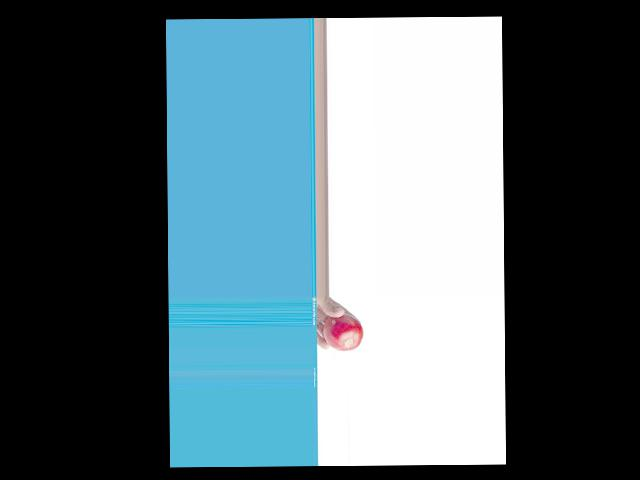tomato: (322, 313, 362, 351)
